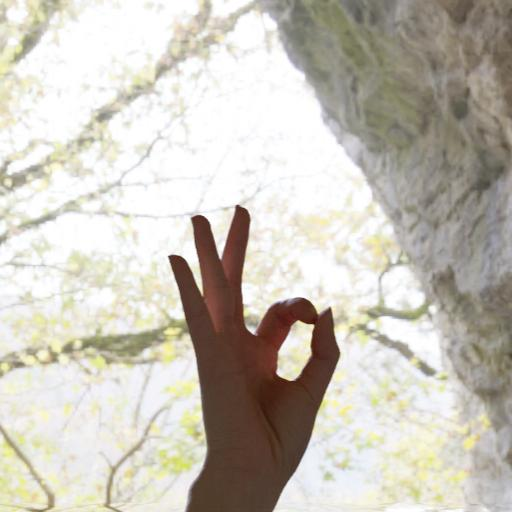F: (150, 190, 339, 421)
